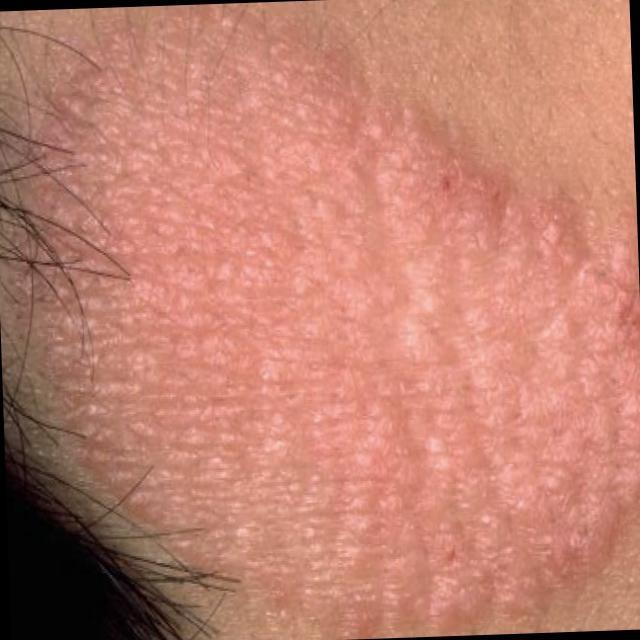Eczema: (29, 1, 640, 638)
